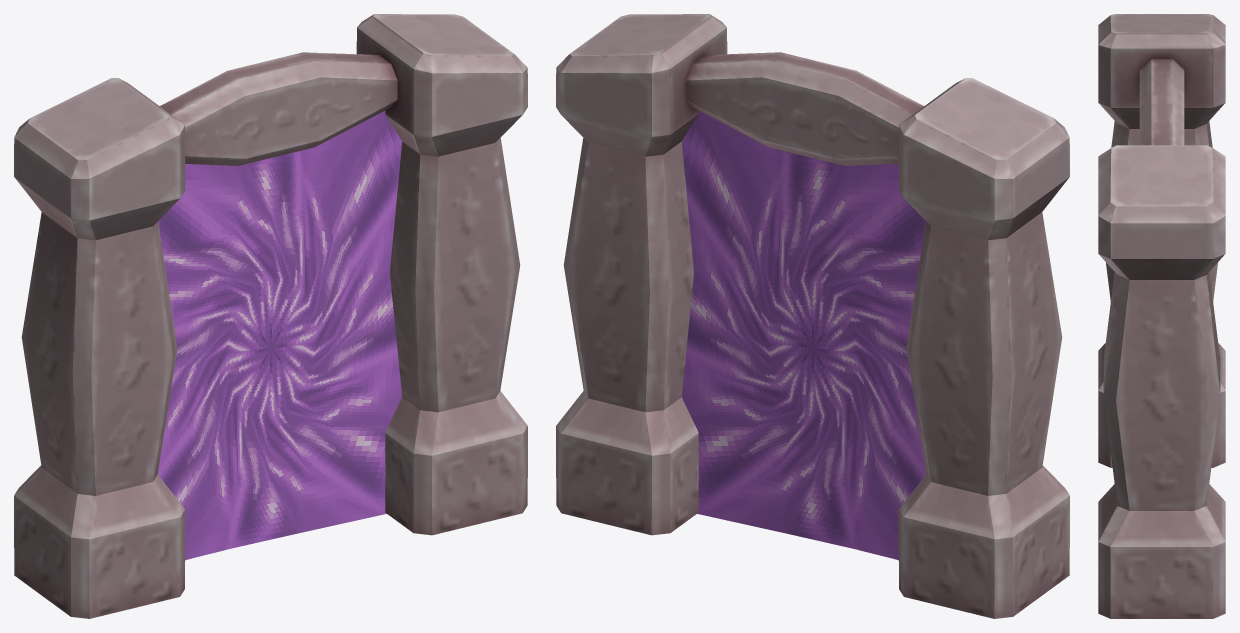
The model's file is Warp Gate.fbx.
3 renders of one model, left to right at view 1: azimuth 30°, elevation 25°; view 2: azimuth 150°, elevation 25°; view 3: azimuth 270°, elevation 25°, orthographic. The views are drawn at different scales.
Visible parts, largest first — view 1: gate, add; view 2: gate, add; view 3: gate.
Part boxes in pixels (left/top/right/bottom): gate: left=14, top=14, right=527, bottom=618; add: left=157, top=110, right=402, bottom=559; gate: left=556, top=14, right=1069, bottom=618; add: left=681, top=110, right=926, bottom=559; gate: left=1098, top=14, right=1225, bottom=618.
Size of the model in its own units: 3 by 2.99 by 0.8.
